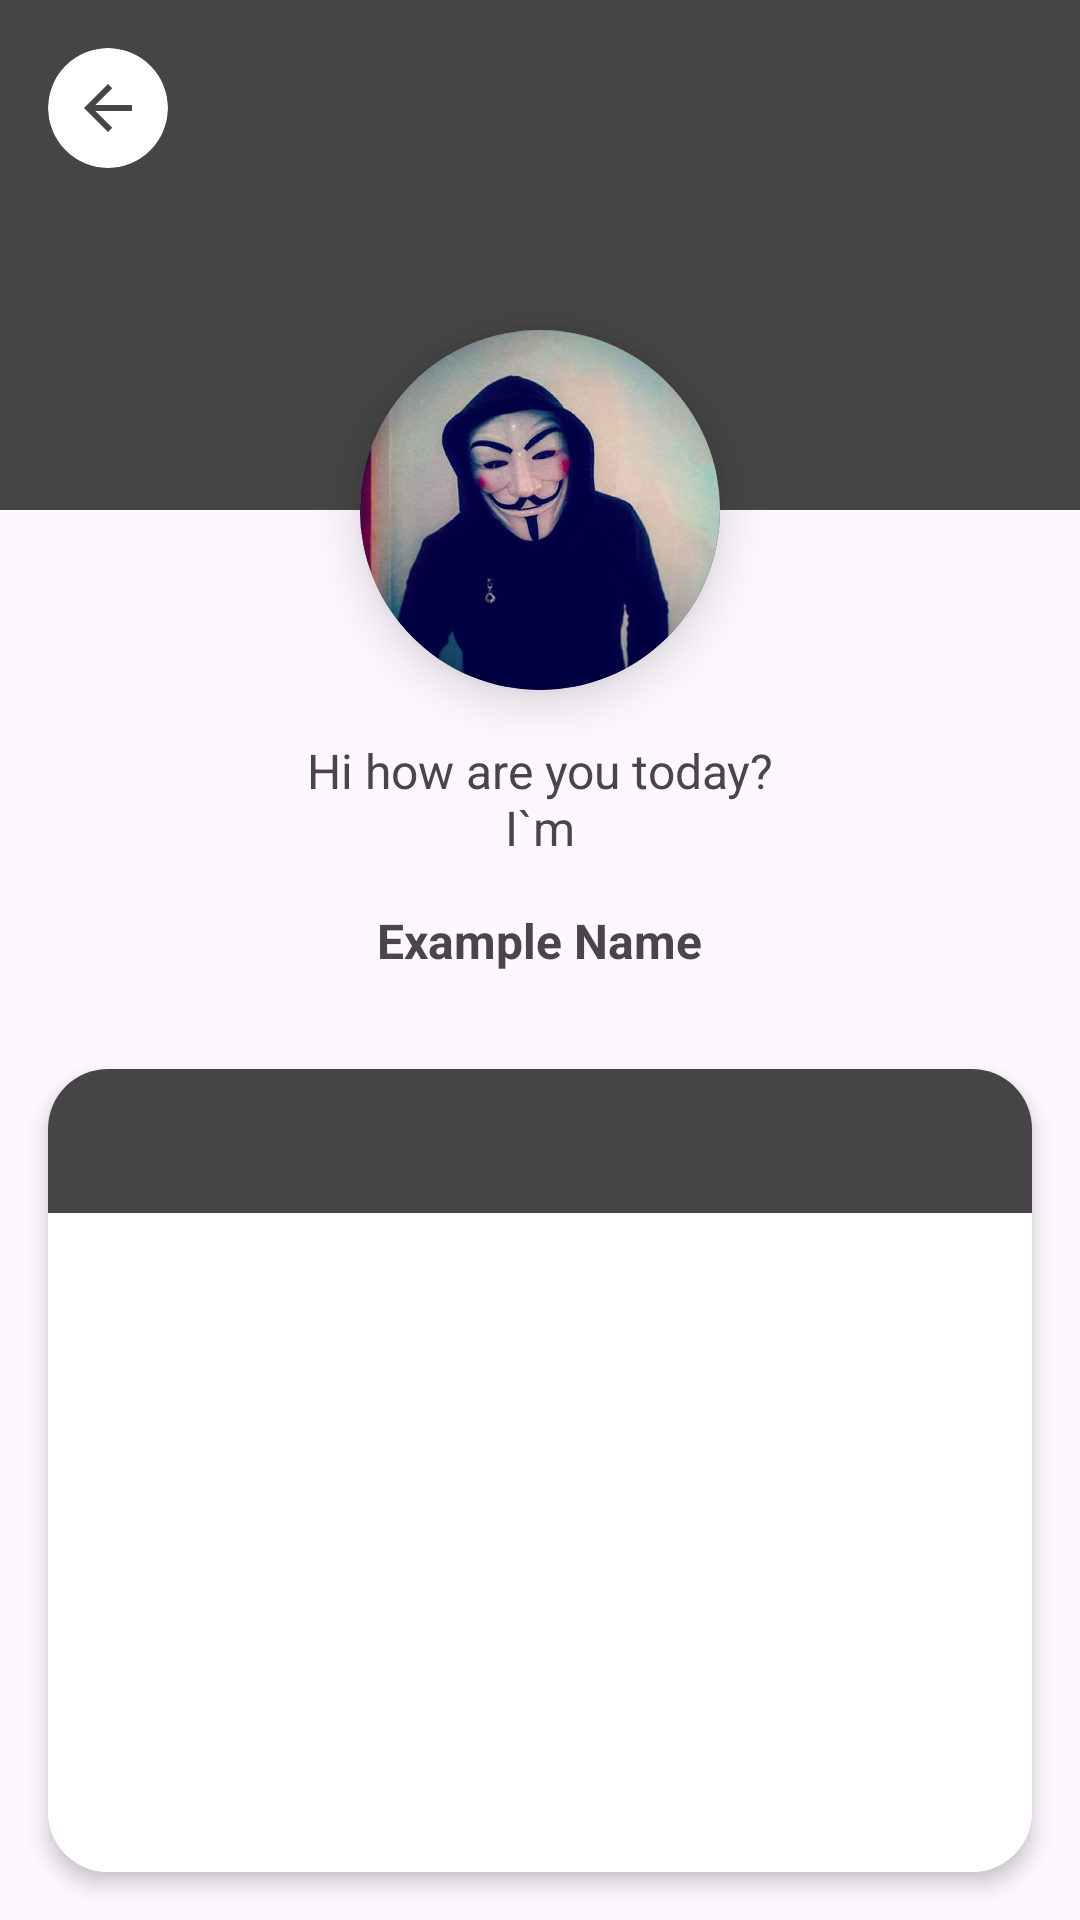

Named icons in this screenshot (1080×1920) and their centers, (x=x, y=y):
Profile picture: (x=540, y=510)
